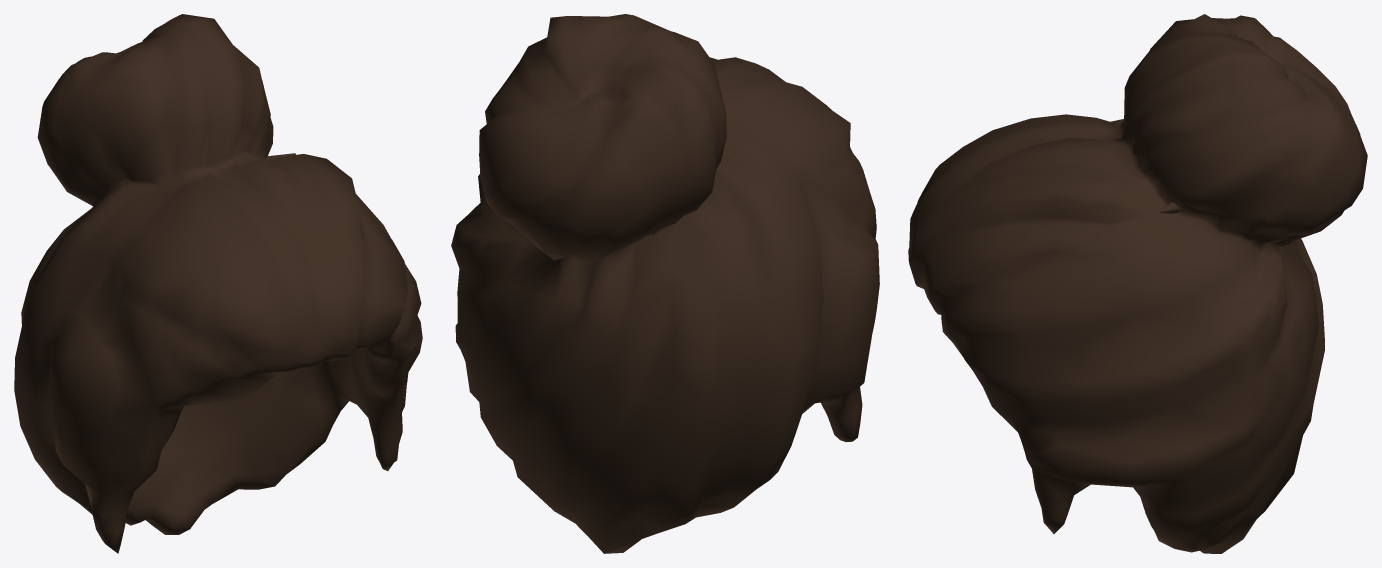
File: hair_w06.glb
3 renders of one model, left to right at view 1: azimuth 30°, elevation 25°; view 2: azimuth 150°, elevation 25°; view 3: azimuth 270°, elevation 25°, orthographic. The views are drawn at different scales.
Visible parts, largest first — view 1: hair_w06; view 2: hair_w06; view 3: hair_w06.
Boxes of the visible parts, x1=… form: hair_w06: x1=14, y1=14, x2=422, y2=553; hair_w06: x1=451, y1=14, x2=879, y2=553; hair_w06: x1=908, y1=14, x2=1367, y2=553.
Size of the model in its own units: 0.176 by 0.2437 by 0.1952.
